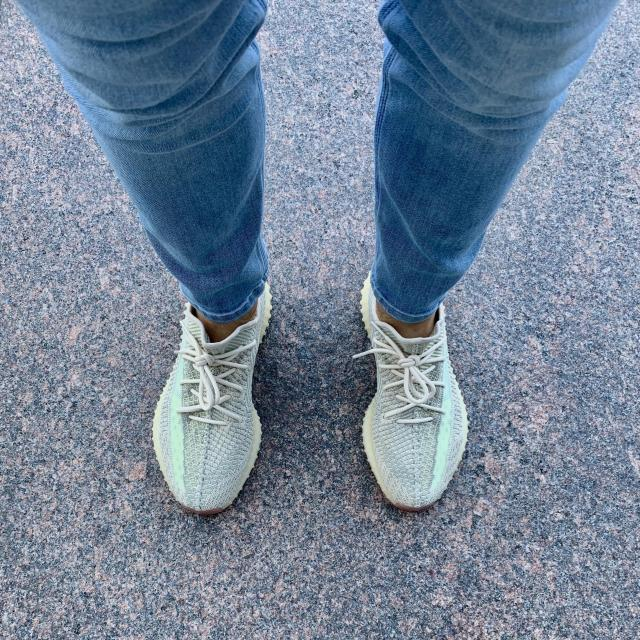shoes: (133, 244, 285, 524), (351, 260, 493, 522)
